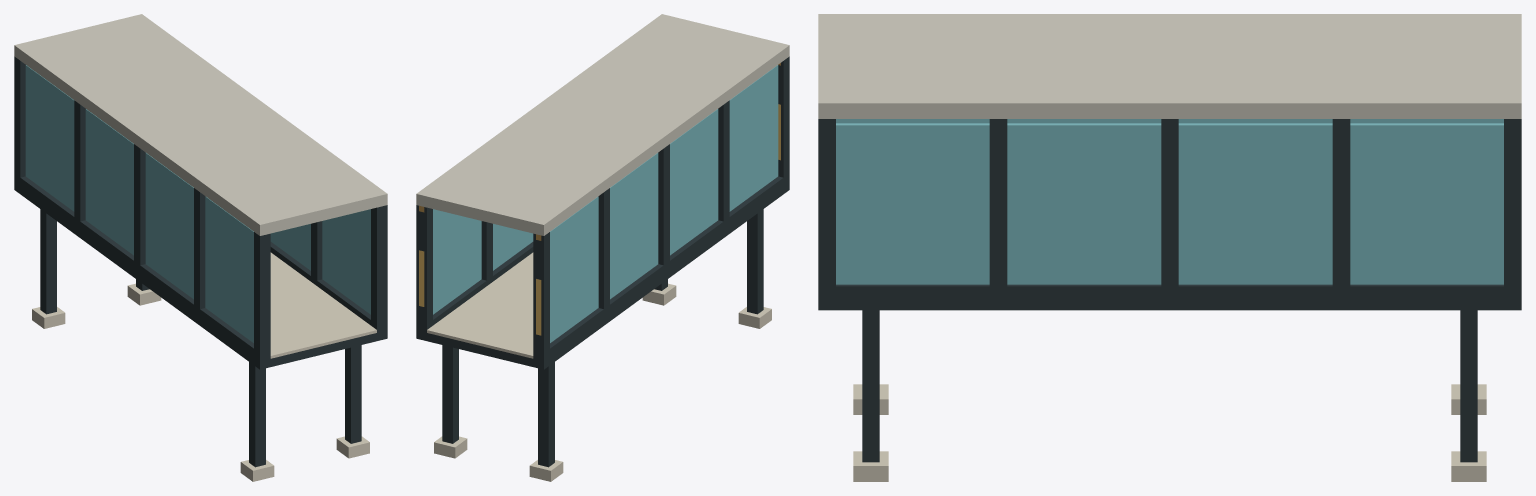
The picture shows the model from 3 angles, left to right: view 1: azimuth 30°, elevation 25°; view 2: azimuth 150°, elevation 25°; view 3: azimuth 270°, elevation 25°; orthographic projection. The views are drawn at different scales.
Visible parts, largest first — view 1: 航站至机位步行登机接台; view 2: 航站至机位步行登机接台; view 3: 航站至机位步行登机接台.
Boxes of the visible parts, <box> form: 航站至机位步行登机接台: <box>14,14,387,481</box>; 航站至机位步行登机接台: <box>416,14,789,481</box>; 航站至机位步行登机接台: <box>818,14,1521,481</box>.
Bounding box in the file's own units: 2.4 × 4.8 × 8.
6 materials, 6 textured.
